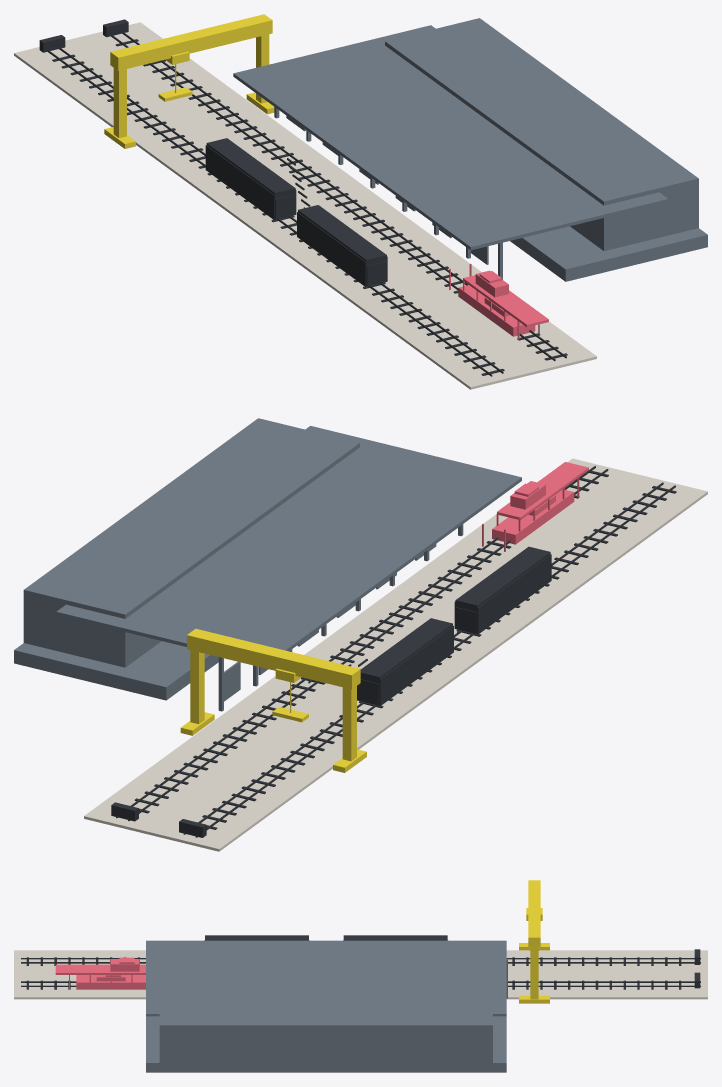
The model's file is hq_railway_l2.glb.
The picture shows the model from 3 angles, top to bottom: view 1: azimuth 30°, elevation 25°; view 2: azimuth 150°, elevation 25°; view 3: azimuth 270°, elevation 25°; orthographic projection. The views are drawn at different scales.
Parts seen in each view (by area): view 1: GEO_Railway_L2_Depot_Building, GEO_Railway_L2_Ballast_Bed, GEO_Railway_L2_Dual_Tracks, GEO_Railway_L2_Boxcars, GEO_Railway_L2_Gantry_Crane, GEO_Railway_L2_AutoRack_Ramp; view 2: GEO_Railway_L2_Depot_Building, GEO_Railway_L2_Ballast_Bed, GEO_Railway_L2_Dual_Tracks, GEO_Railway_L2_Boxcars, GEO_Railway_L2_Gantry_Crane, GEO_Railway_L2_AutoRack_Ramp; view 3: GEO_Railway_L2_Depot_Building, GEO_Railway_L2_Ballast_Bed, GEO_Railway_L2_Dual_Tracks, GEO_Railway_L2_AutoRack_Ramp, GEO_Railway_L2_Gantry_Crane, GEO_Railway_L2_Boxcars.
Part boxes in pixels (bbox=[...]): GEO_Railway_L2_Depot_Building: bbox=[233, 18, 707, 281]; GEO_Railway_L2_Ballast_Bed: bbox=[14, 22, 596, 389]; GEO_Railway_L2_Dual_Tracks: bbox=[39, 19, 567, 376]; GEO_Railway_L2_Boxcars: bbox=[205, 138, 387, 286]; GEO_Railway_L2_Gantry_Crane: bbox=[104, 14, 274, 148]; GEO_Railway_L2_AutoRack_Ramp: bbox=[449, 263, 548, 340]; GEO_Railway_L2_Depot_Building: bbox=[14, 418, 521, 711]; GEO_Railway_L2_Ballast_Bed: bbox=[84, 458, 707, 851]; GEO_Railway_L2_Dual_Tracks: bbox=[111, 466, 676, 837]; GEO_Railway_L2_Boxcars: bbox=[357, 546, 551, 705]; GEO_Railway_L2_Gantry_Crane: bbox=[180, 628, 366, 772]; GEO_Railway_L2_AutoRack_Ramp: bbox=[482, 462, 588, 551]; GEO_Railway_L2_Depot_Building: bbox=[146, 940, 507, 1072]; GEO_Railway_L2_Ballast_Bed: bbox=[14, 950, 707, 999]; GEO_Railway_L2_Dual_Tracks: bbox=[21, 949, 700, 989]; GEO_Railway_L2_AutoRack_Ramp: bbox=[55, 957, 145, 989]; GEO_Railway_L2_Gantry_Crane: bbox=[519, 880, 549, 1003]; GEO_Railway_L2_Boxcars: bbox=[204, 935, 447, 940].
Size of what is drawn, in the model's own units: 42.75 by 10.6 by 100.
